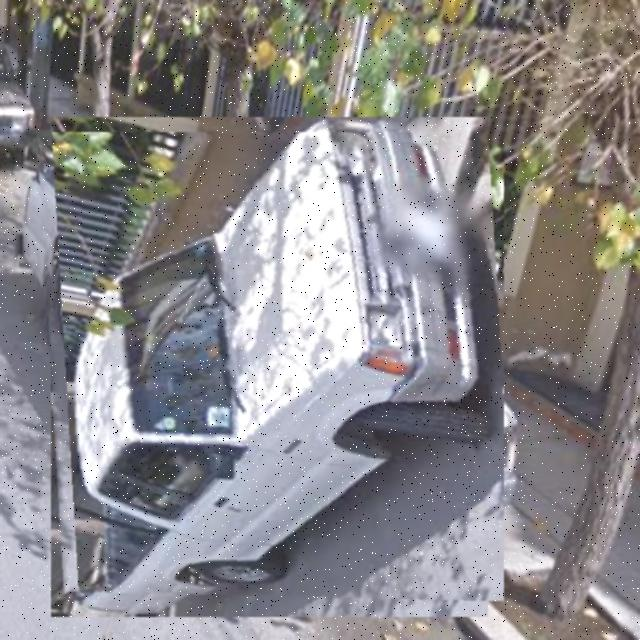car: (37, 133, 505, 603)
